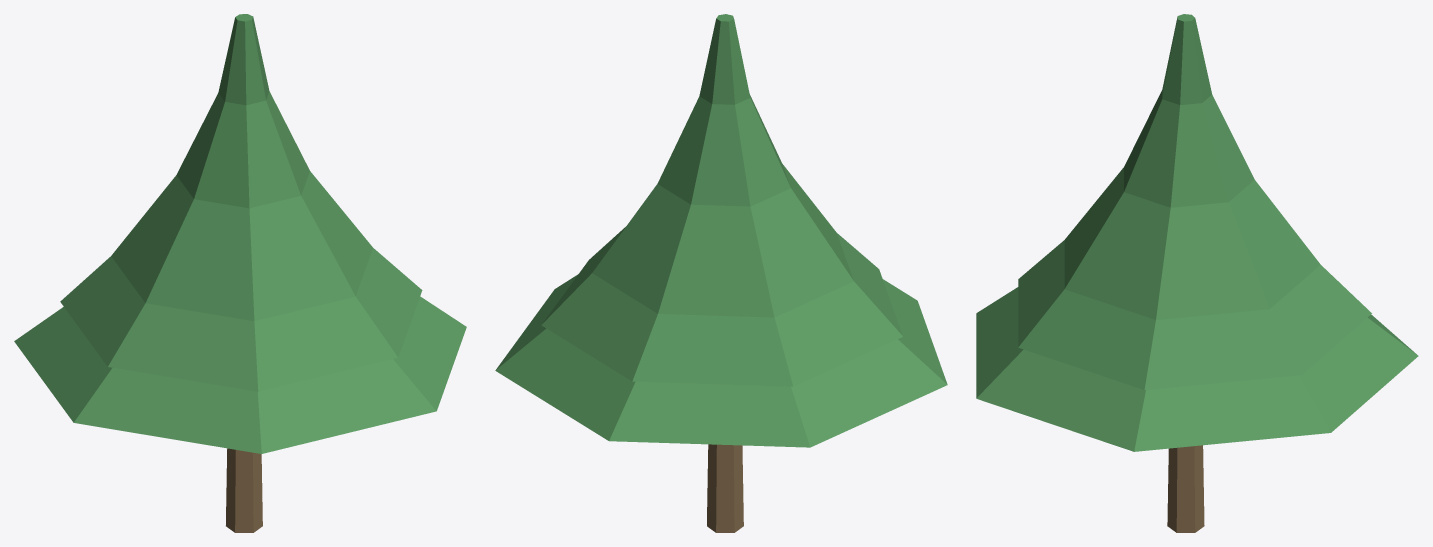
File: conifer_1.glb
3 renders of one model, left to right at view 1: azimuth 30°, elevation 25°; view 2: azimuth 150°, elevation 25°; view 3: azimuth 270°, elevation 25°, orthographic.
Visible parts, largest first — view 1: conifer_1_needle_0, conifer_1_needle_1, conifer_1_needle_2, conifer_1_needle_3, conifer_1_needle_4, conifer_1_trunk; view 2: conifer_1_needle_0, conifer_1_needle_1, conifer_1_needle_2, conifer_1_needle_3, conifer_1_trunk, conifer_1_needle_4; view 3: conifer_1_needle_0, conifer_1_needle_1, conifer_1_needle_2, conifer_1_needle_3, conifer_1_needle_4, conifer_1_trunk.
Part boxes in pixels (x1,y1,x2,y2): conifer_1_needle_0: [14, 296, 466, 453]; conifer_1_needle_1: [60, 248, 422, 391]; conifer_1_needle_2: [111, 171, 372, 321]; conifer_1_needle_3: [176, 91, 309, 208]; conifer_1_needle_4: [218, 14, 269, 105]; conifer_1_trunk: [226, 448, 262, 532]; conifer_1_needle_0: [495, 274, 947, 447]; conifer_1_needle_1: [541, 227, 902, 386]; conifer_1_needle_2: [592, 164, 853, 317]; conifer_1_needle_3: [657, 94, 790, 206]; conifer_1_trunk: [707, 444, 743, 532]; conifer_1_needle_4: [699, 14, 750, 104]; conifer_1_needle_0: [976, 287, 1418, 451]; conifer_1_needle_1: [1018, 240, 1371, 390]; conifer_1_needle_2: [1064, 167, 1320, 319]; conifer_1_needle_3: [1124, 90, 1254, 207]; conifer_1_needle_4: [1162, 14, 1212, 105]; conifer_1_trunk: [1167, 445, 1204, 532].
Bounding box in the file's own units: 2.45 × 3.03 × 2.39.
